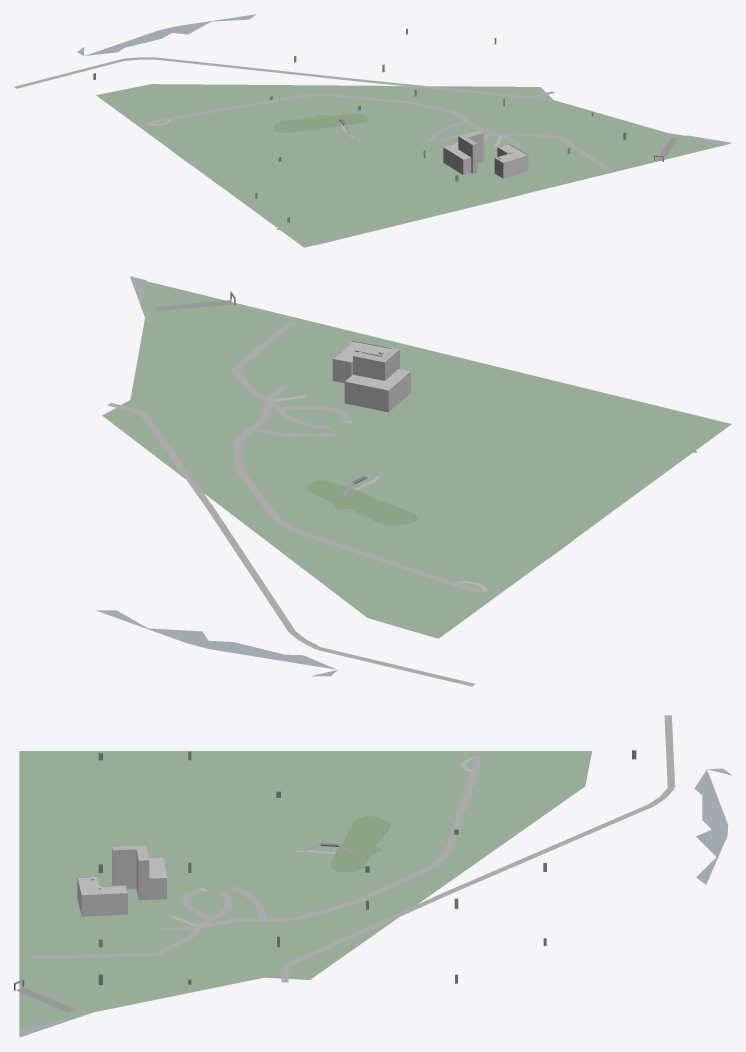
The picture shows the model from 3 angles, top to bottom: view 1: azimuth 30°, elevation 25°; view 2: azimuth 150°, elevation 25°; view 3: azimuth 270°, elevation 25°; orthographic projection. The views are drawn at different scales.
Size of the model in its own units: 515 by 30.11 by 485.
